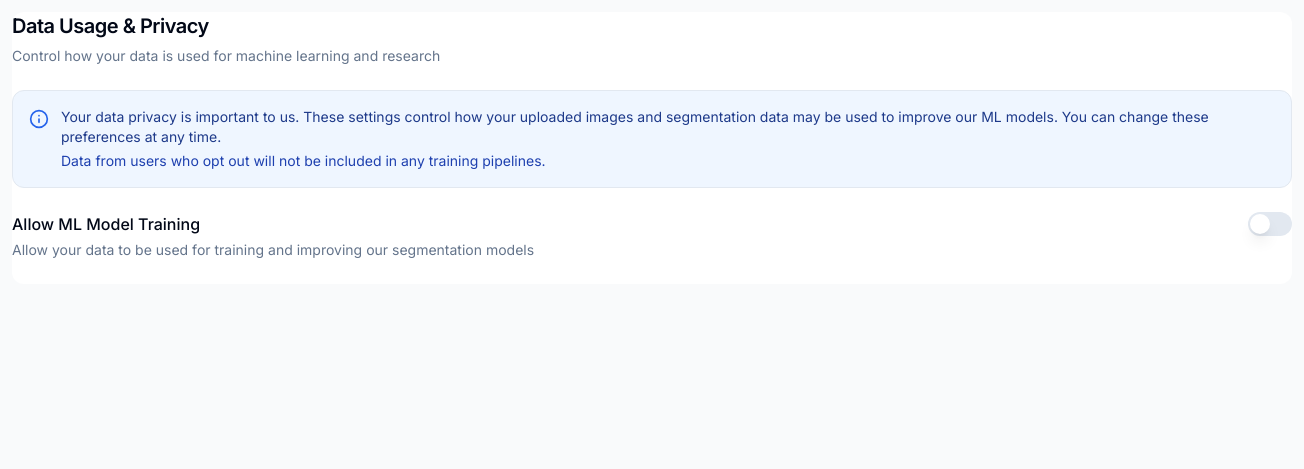
Test: ConsentSection › save flow › save button disappears after successful save
Click the switch named "allow ml model training".
click(1270, 224)  # box 1248,212 -> 1292,236
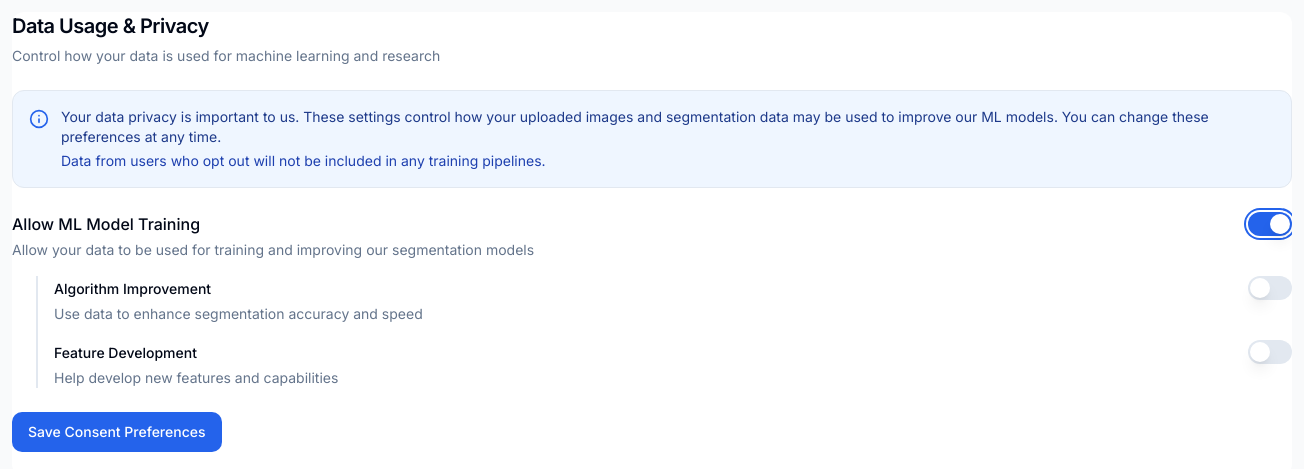
Click the button "Save Consent Preferences".
click(117, 432)  # box 12,412 -> 222,452
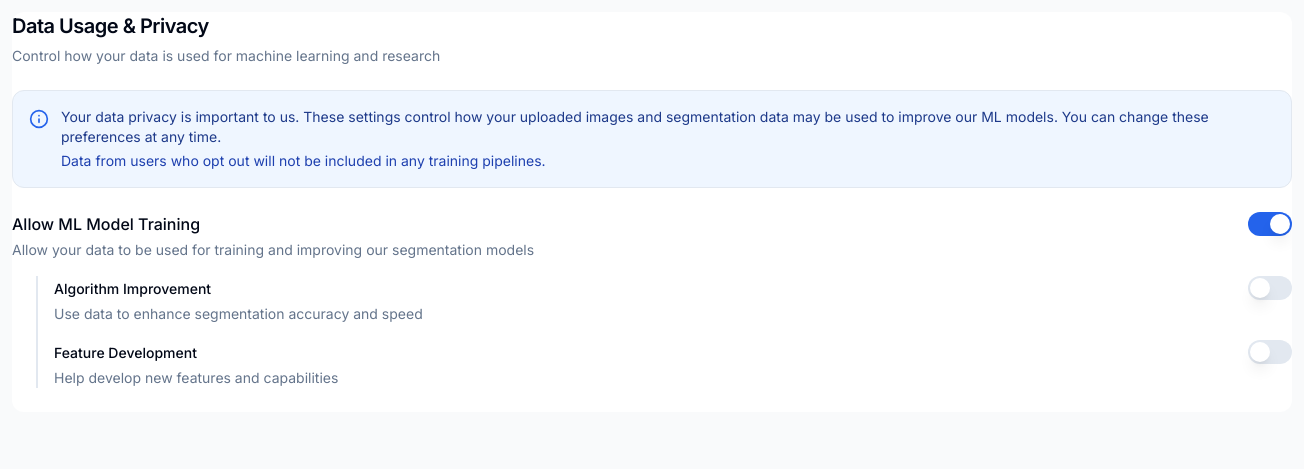
Now the button "Save Consent" is gone
